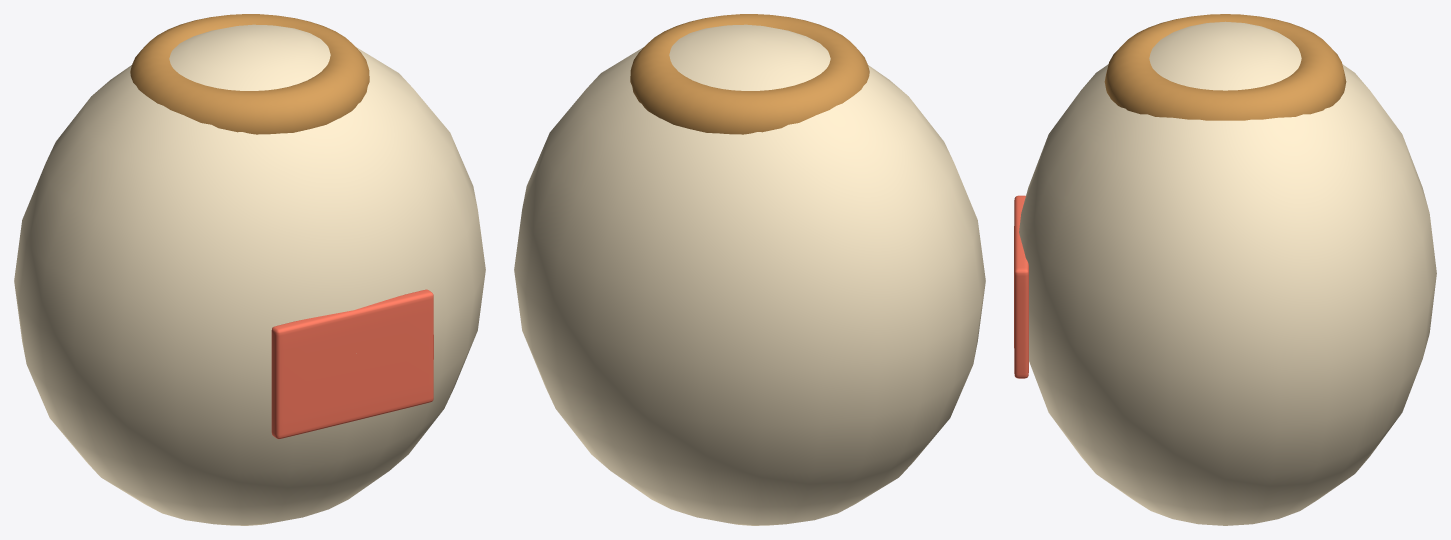
Rendered from Flour.glb.
3 renders of one model, left to right at view 1: azimuth 30°, elevation 25°; view 2: azimuth 150°, elevation 25°; view 3: azimuth 270°, elevation 25°, orthographic.
Parts seen in each view (by area): view 1: Sphere, Cube, Torus; view 2: Sphere, Torus; view 3: Sphere, Torus, Cube.
Part boxes in pixels (bbox=[...]): Sphere: bbox=[14, 24, 485, 525]; Cube: bbox=[271, 289, 433, 439]; Torus: bbox=[130, 14, 369, 134]; Sphere: bbox=[514, 24, 985, 525]; Torus: bbox=[630, 14, 869, 134]; Sphere: bbox=[1019, 21, 1436, 525]; Torus: bbox=[1104, 14, 1346, 120]; Cube: bbox=[1014, 195, 1028, 378].
Bounding box in the file's own units: 0.32 × 0.34 × 0.28.
